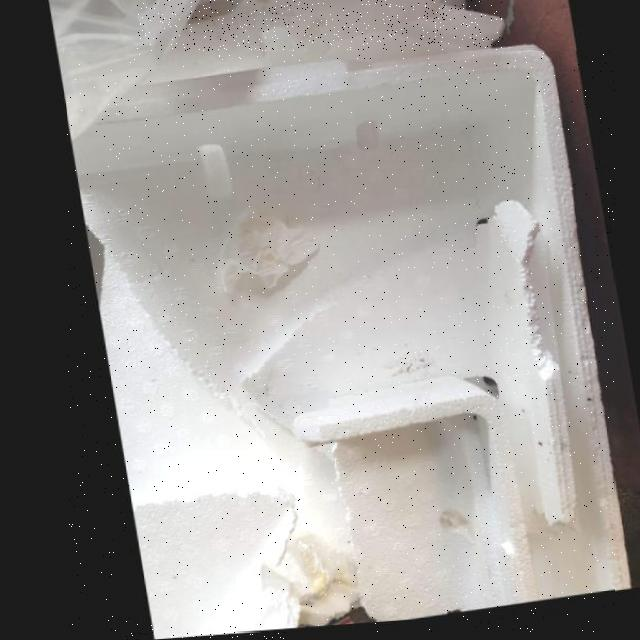styrofoam: (68, 51, 615, 632), (283, 382, 523, 628), (137, 0, 503, 88), (122, 495, 285, 640)
